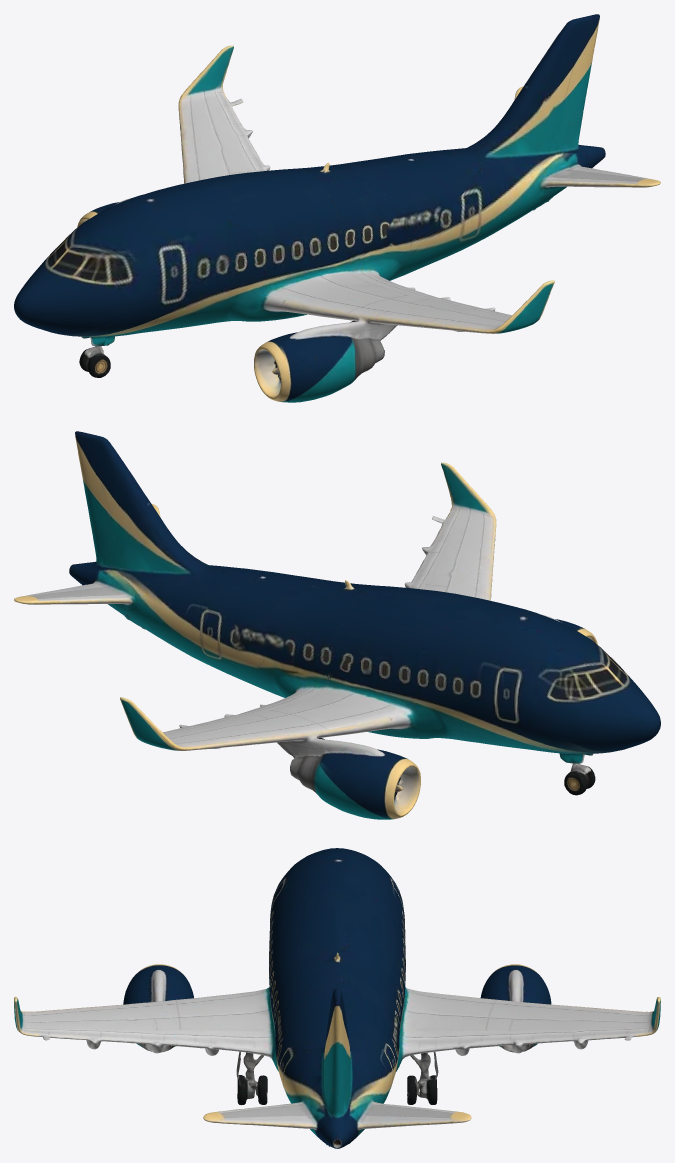
Rendered from airplane.glb.
3 views of the same model, one above another, from view 1: azimuth 30°, elevation 25°; view 2: azimuth 150°, elevation 25°; view 3: azimuth 270°, elevation 25° (orthographic).
Bounding box in the file's own units: 1.9 × 0.7355 × 1.81.
Materials: 1 (1 with a texture image).
